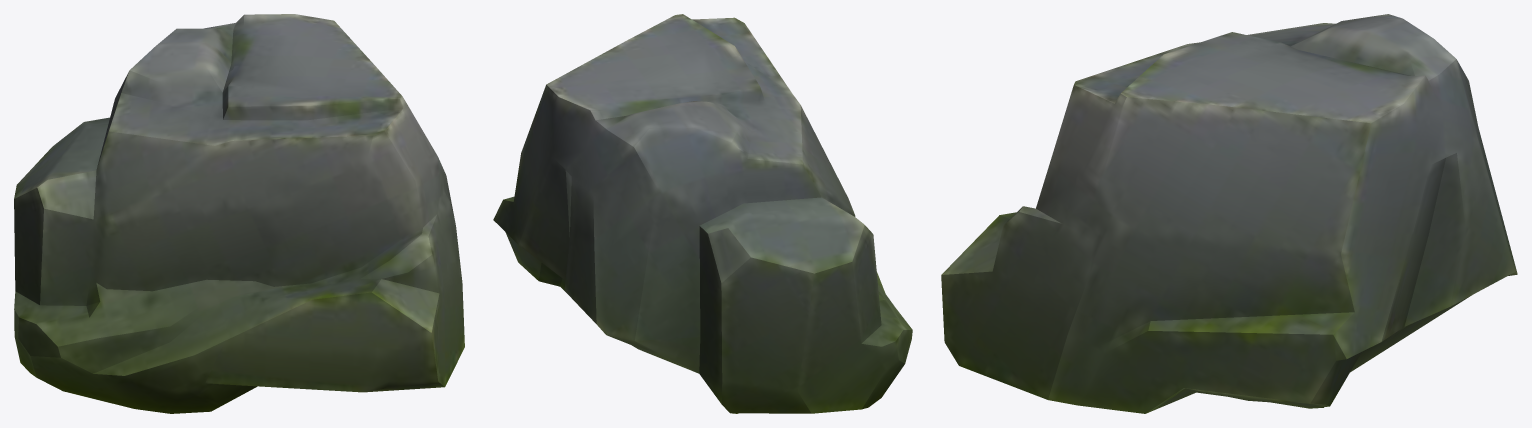
Rendered from Rock_Medium_3.glb.
3 renders of one model, left to right at view 1: azimuth 30°, elevation 25°; view 2: azimuth 150°, elevation 25°; view 3: azimuth 270°, elevation 25°, orthographic. The views are drawn at different scales.
Size of the model in its own units: 3.42 by 2.32 by 3.48.
1 material, 1 textured.
